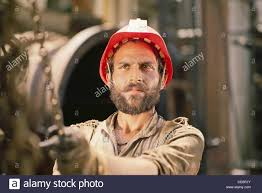Person_wearing_helmet: (94, 16, 171, 77)
